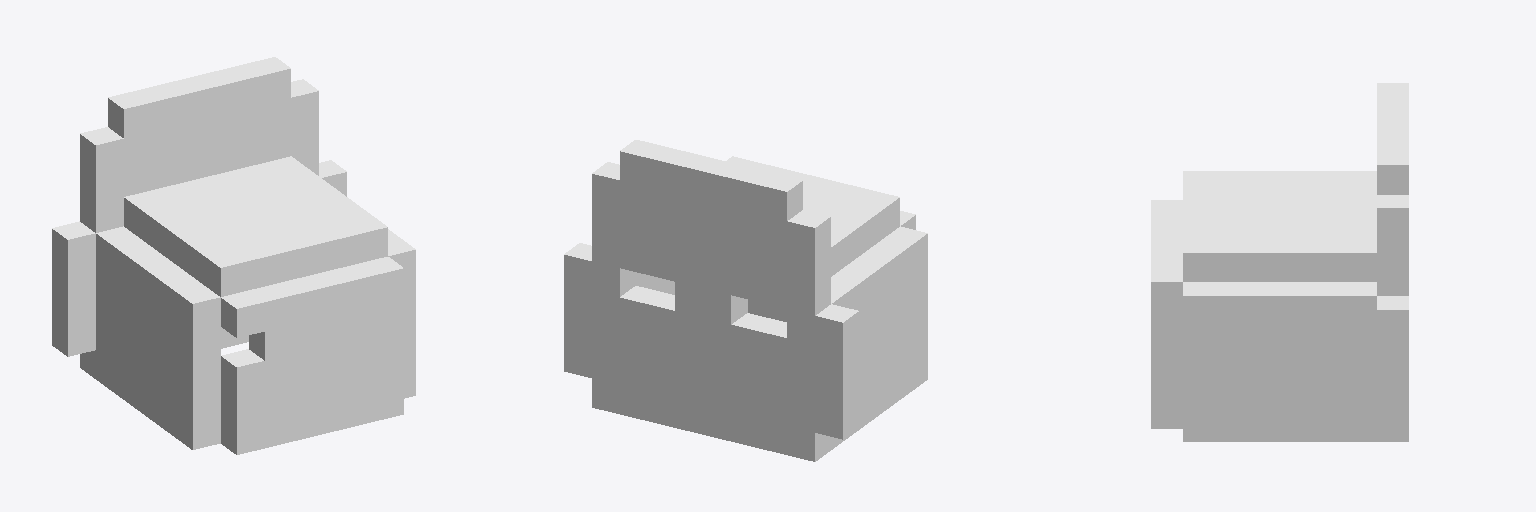
The model's file is hallowed_mask.obj.
3 renders of one model, left to right at view 1: azimuth 30°, elevation 25°; view 2: azimuth 150°, elevation 25°; view 3: azimuth 270°, elevation 25°, orthographic.
Parts seen in each view (by area): view 1: Model; view 2: Model; view 3: Model.
Boxes of the visible parts, <box> form: Model: <box>52,57,415,454</box>; Model: <box>564,140,927,461</box>; Model: <box>1151,83,1408,441</box>.
Bounding box in the file's own units: 20 × 18 × 16.